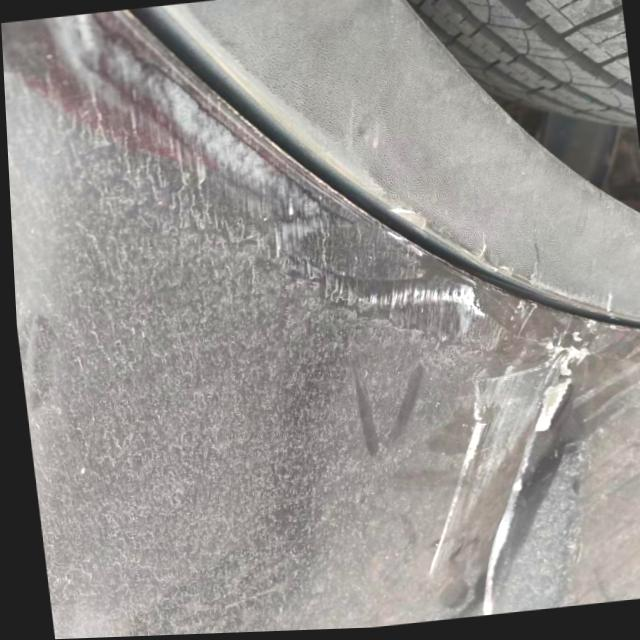Scratch: (482, 346, 585, 615)
